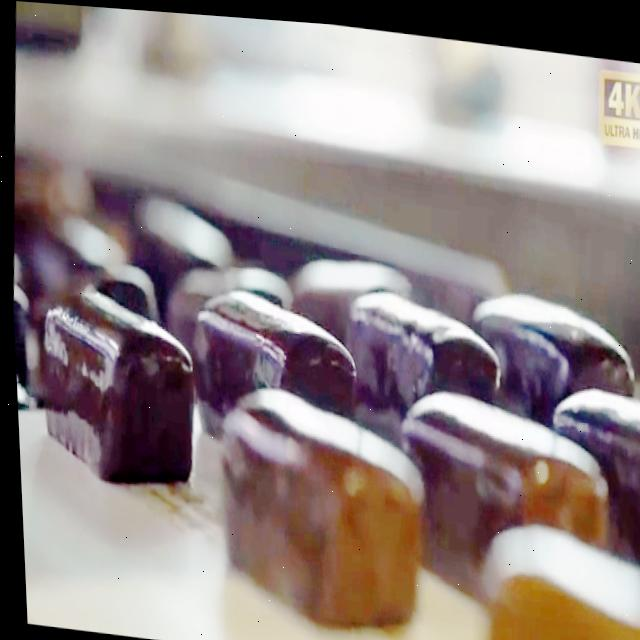Choco: (203, 373, 431, 632), (387, 369, 618, 608), (29, 276, 200, 492), (462, 264, 639, 442), (340, 272, 503, 414), (187, 275, 359, 409), (537, 362, 640, 552)
